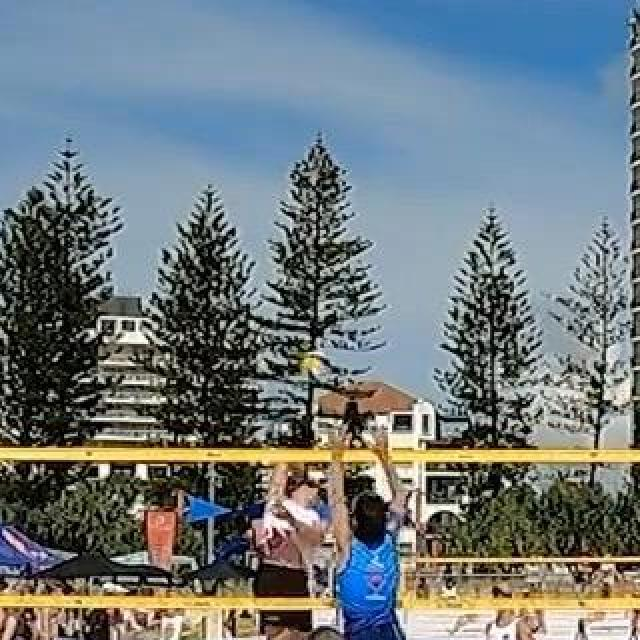volleyball: (299, 353, 333, 385)
